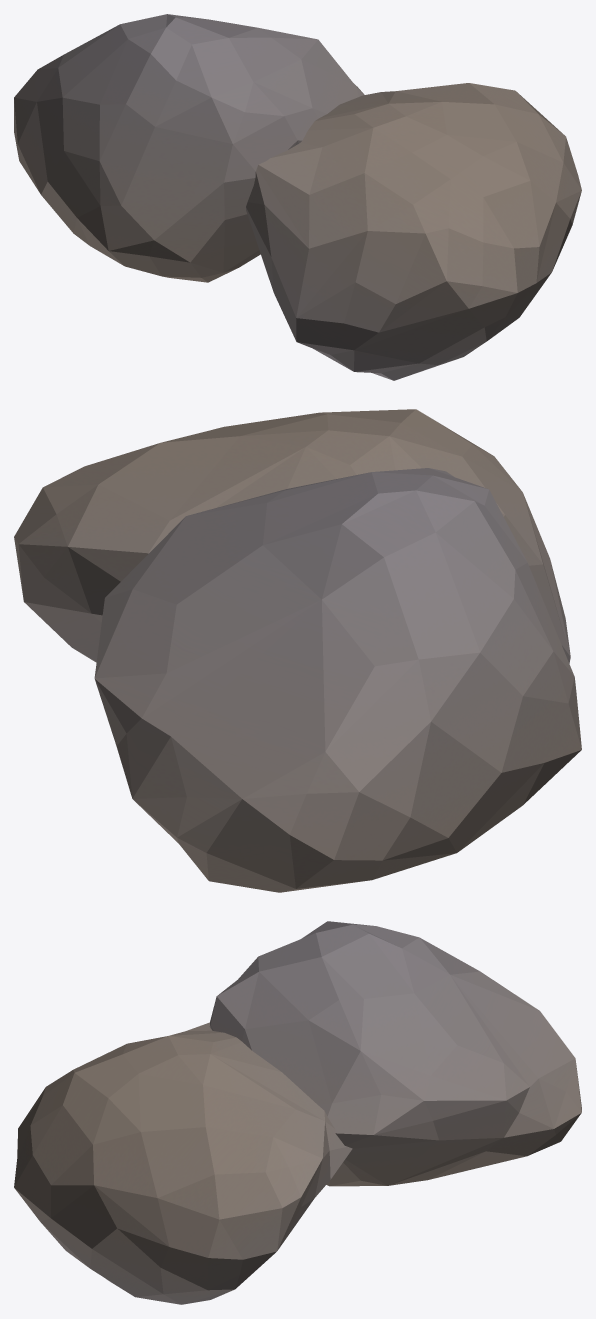
The model's file is stone2.glb.
3 renders of one model, top to bottom at view 1: azimuth 30°, elevation 25°; view 2: azimuth 150°, elevation 25°; view 3: azimuth 270°, elevation 25°, orthographic. The views are drawn at different scales.
Parts seen in each view (by area): view 1: stone2; view 2: stone2; view 3: stone2.
Part boxes in pixels (x1,y1,x2,y2): stone2: (14, 14, 581, 380); stone2: (14, 409, 581, 892); stone2: (14, 921, 581, 1304).
Size of the model in its own units: 0.4576 by 0.3129 by 0.5389.
1 material, 1 textured.
